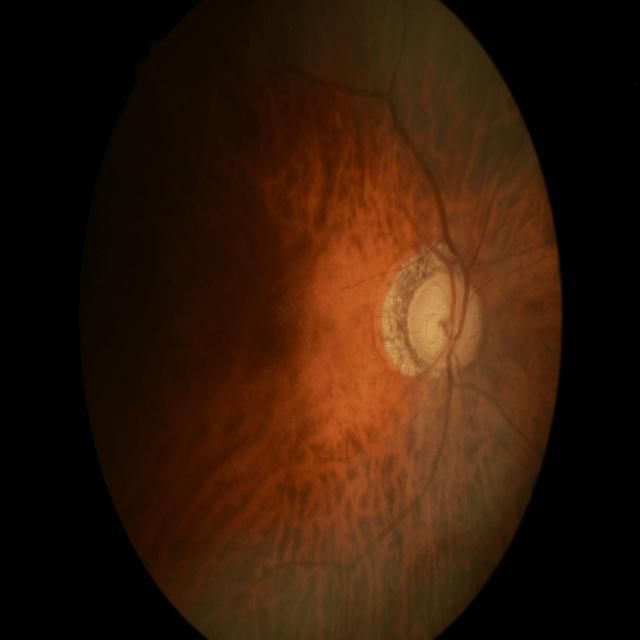cup: (420, 287, 470, 360)
disk: (406, 268, 486, 374)
